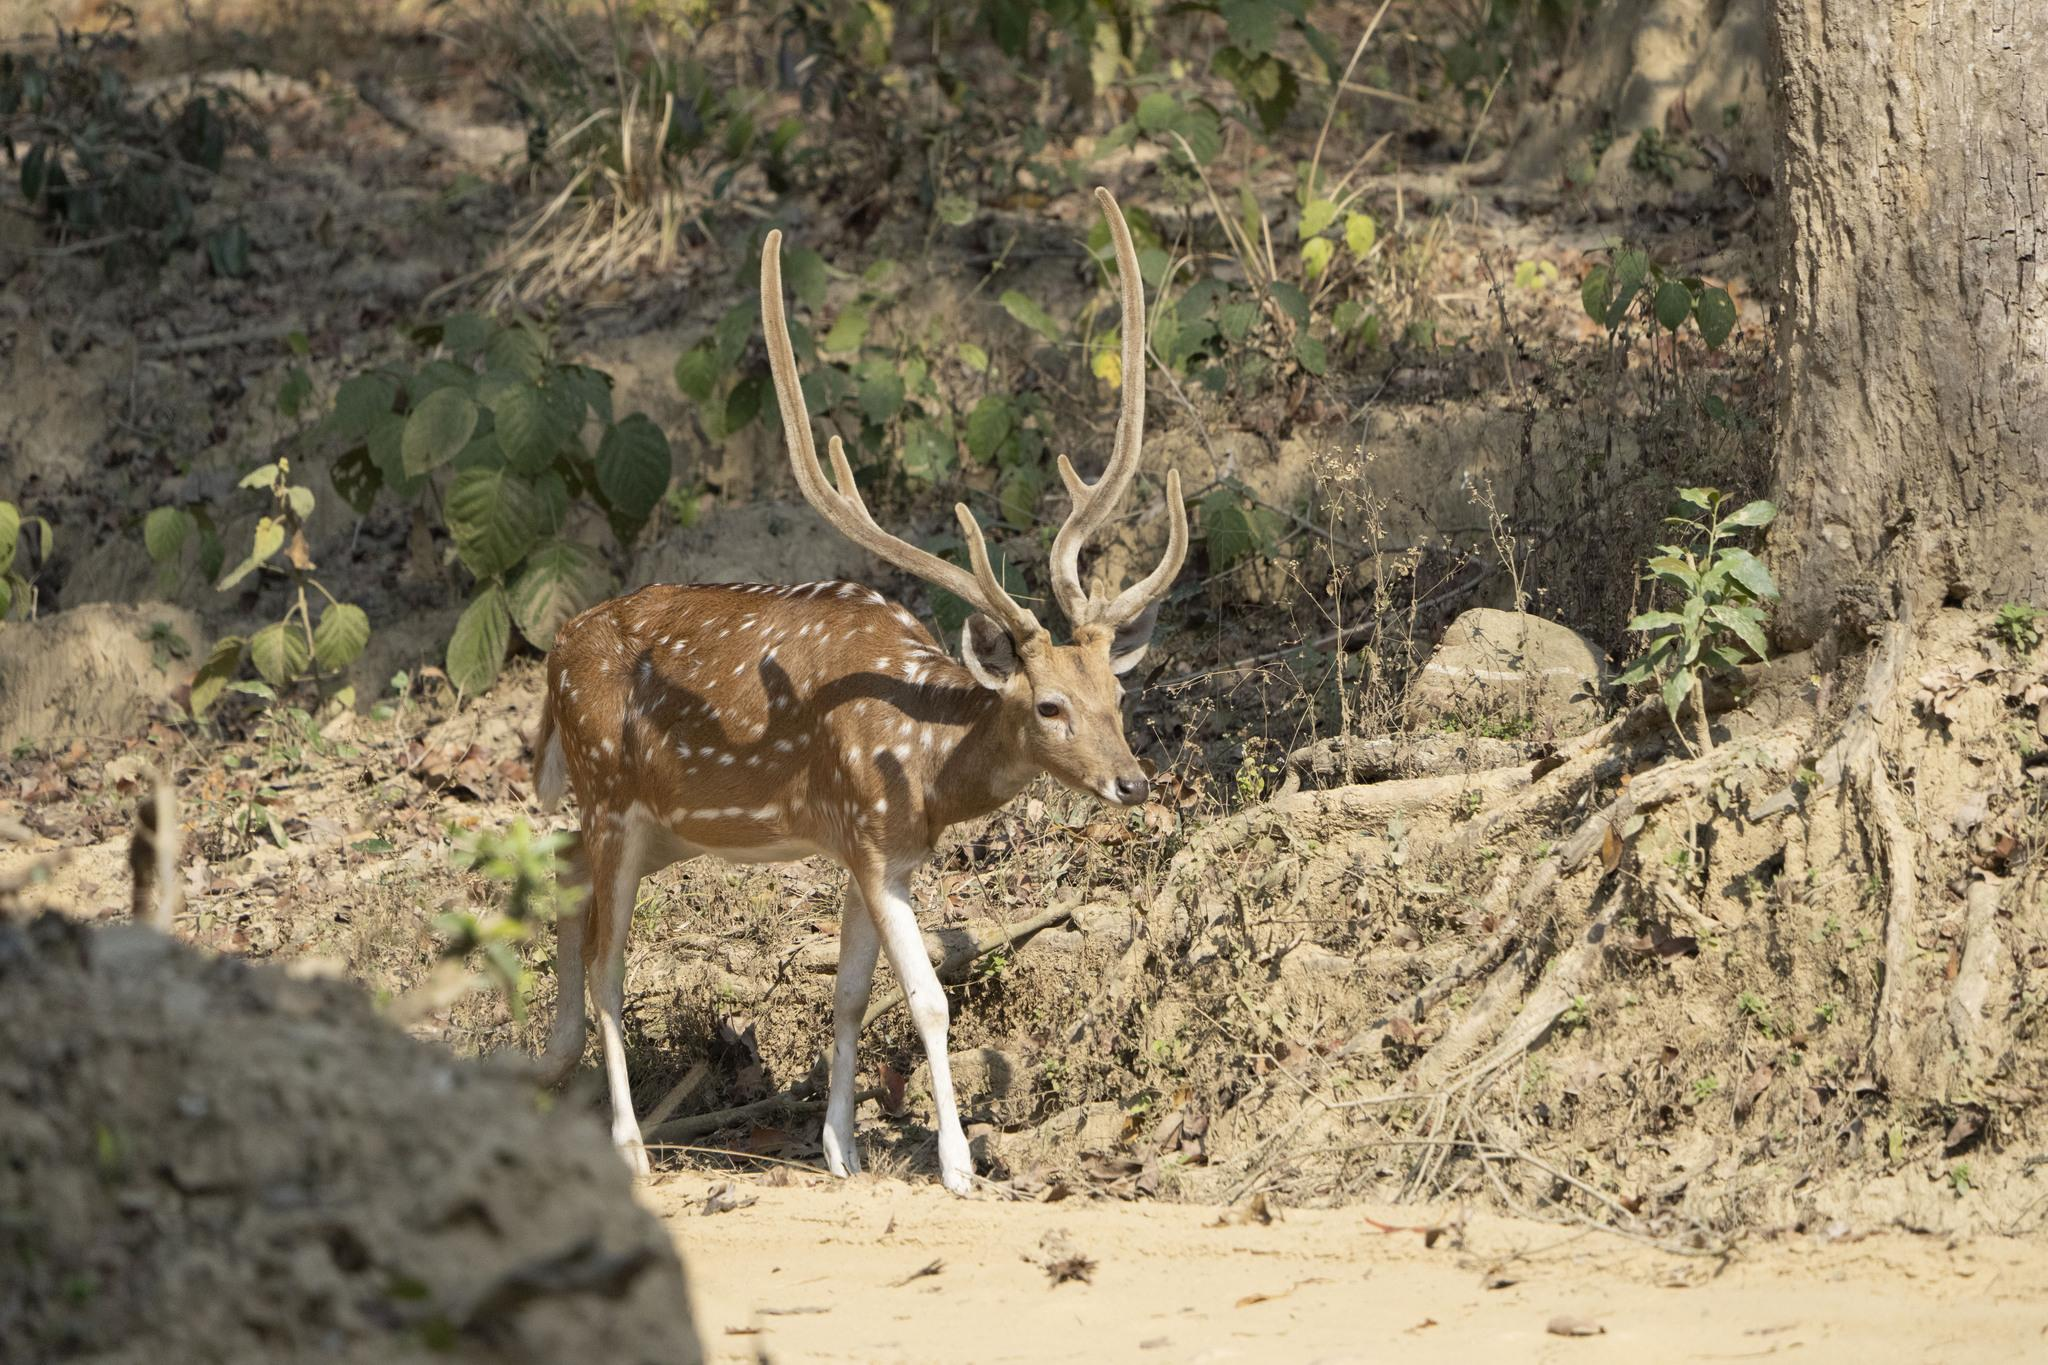Deer: (538, 187, 1188, 1191)
